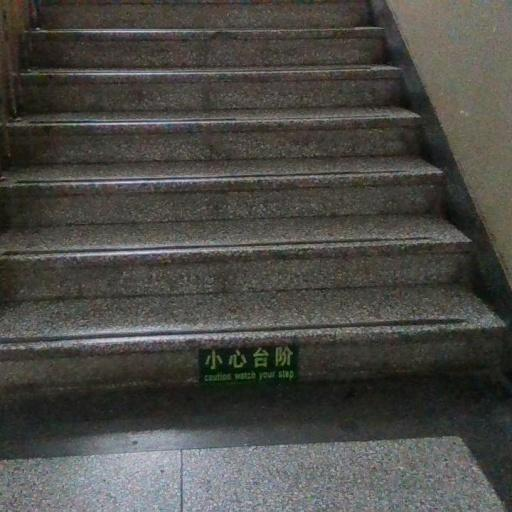stairs: (0, 0, 503, 387)
